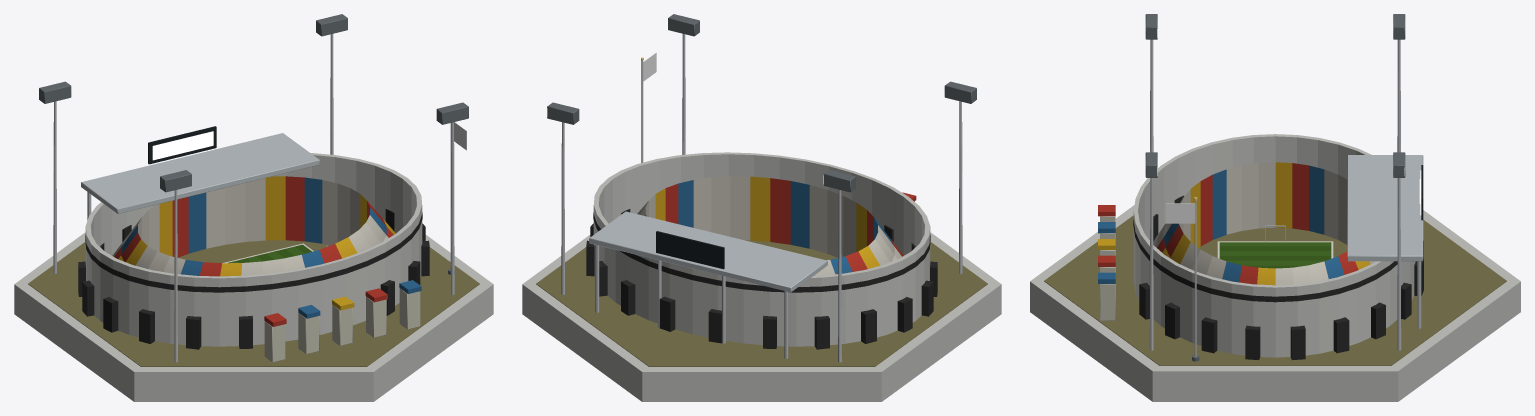
The model's file is stadium.glb.
The picture shows the model from 3 angles, left to right: view 1: azimuth 30°, elevation 25°; view 2: azimuth 150°, elevation 25°; view 3: azimuth 270°, elevation 25°; orthographic projection. The views are drawn at different scales.
Parts seen in each view (by area): view 1: wall_concrete, paint, turf, cladding, dark, metal, steel_dark, glow_cyan; view 2: wall_concrete, paint, turf, cladding, dark, metal, steel_dark; view 3: wall_concrete, turf, paint, cladding, dark, metal, steel_dark, banner.
Boxes of the visible parts, x1,y1,x2,y2 form: wall_concrete: (14,153,493,401); paint: (112,126,421,326); turf: (28,240,479,366); cladding: (81,133,420,362); dark: (78,209,429,349); metal: (53,34,454,362); steel_dark: (39,14,468,274); glow_cyan: (152,131,213,160); wall_concrete: (522,152,1001,401); paint: (637,176,916,275); turf: (536,240,987,366); cladding: (589,201,914,292); dark: (586,209,937,349); metal: (561,34,962,362); steel_dark: (547,14,976,192); wall_concrete: (1030,134,1520,401); turf: (1044,215,1506,365); paint: (1098,162,1423,285); cladding: (1100,155,1423,320); dark: (1133,195,1423,360); metal: (1149,39,1421,356); steel_dark: (1145,14,1405,361); banner: (1165,203,1195,223).
Bounding box in the file's own units: 21.3 × 12.3 × 24.6.
